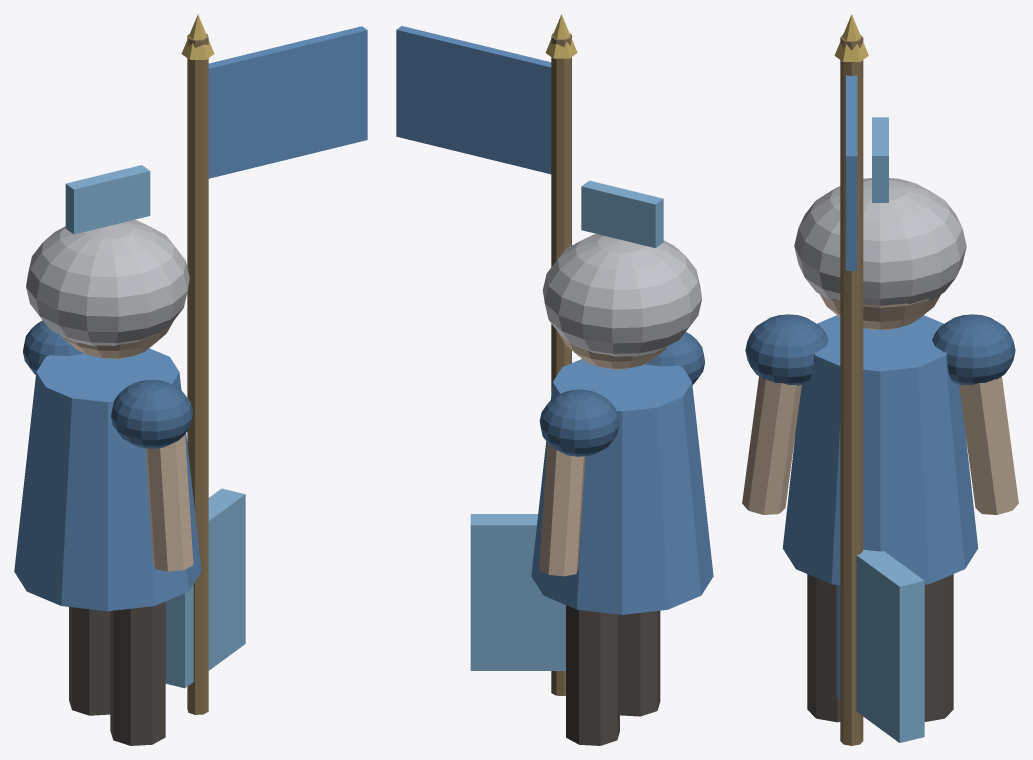
File: hero_aldar_4.glb
3 views of the same model, side by side, from view 1: azimuth 30°, elevation 25°; view 2: azimuth 150°, elevation 25°; view 3: azimuth 270°, elevation 25° (orthographic). The views are drawn at different scales.
Parts seen in each view (by area): view 1: figurka; view 2: figurka; view 3: figurka.
Boxes of the visible parts, bbox=[...] form: figurka: bbox=[14, 14, 367, 745]; figurka: bbox=[396, 14, 713, 745]; figurka: bbox=[742, 14, 1018, 745].
Bounding box in the file's own units: 0.68 × 1.4 × 0.4814.
